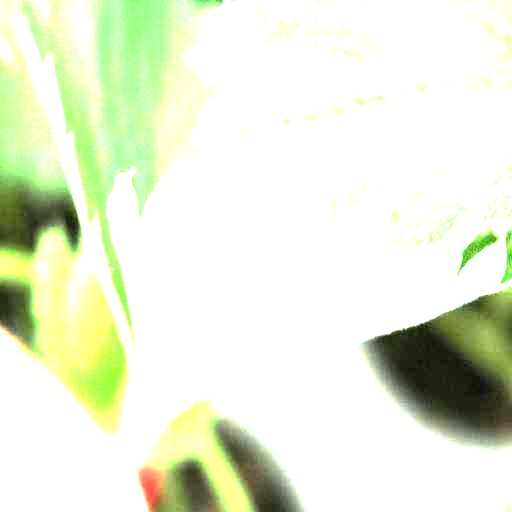Powdery Mildew Leaf: (104, 146, 511, 441)
